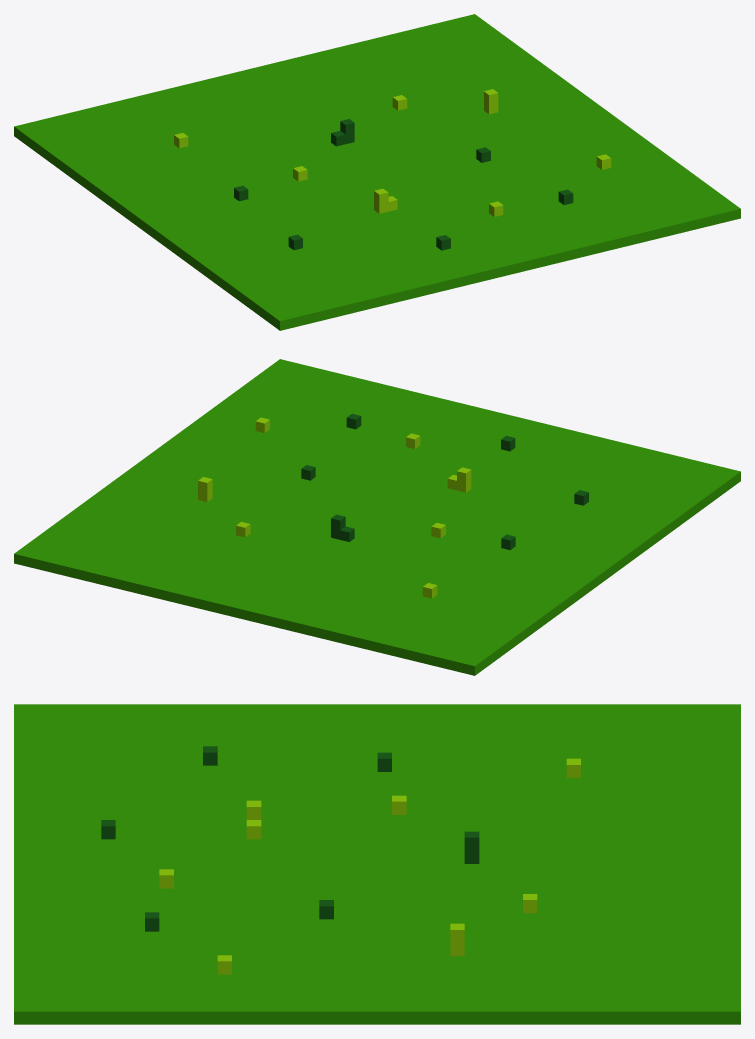
The model's file is grass3.obj.
The picture shows the model from 3 angles, top to bottom: view 1: azimuth 30°, elevation 25°; view 2: azimuth 150°, elevation 25°; view 3: azimuth 270°, elevation 25°; orthographic projection. The views are drawn at different scales.
Size of the model in its own units: 5 by 0.3 by 5.
Materials: 1 (1 with a texture image).
